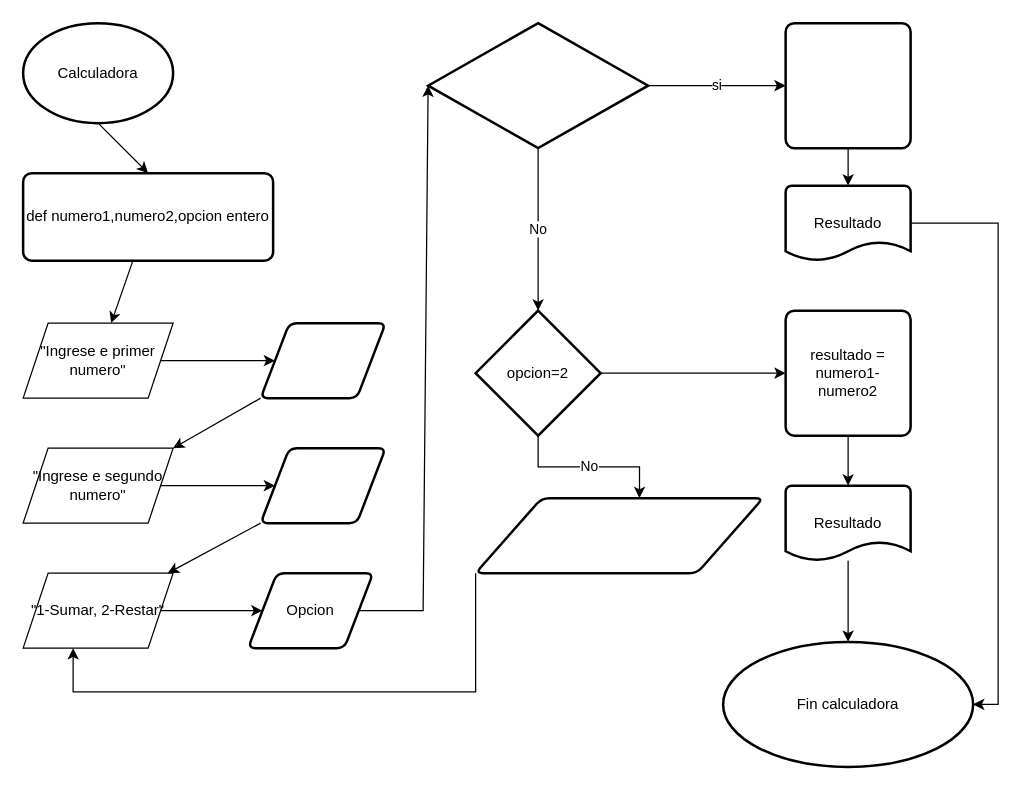
This 1030x789 diagram has some shape labels left out. The centre of each missing label's shape, as x and y in pixels:
"Opcion no válida: (x=619, y=535)
Numero1: (x=322, y=360)
Numero2: (x=322, y=485)
opcion=1: (x=537, y=85)
resultado = numero1+numero2: (x=847, y=85)
